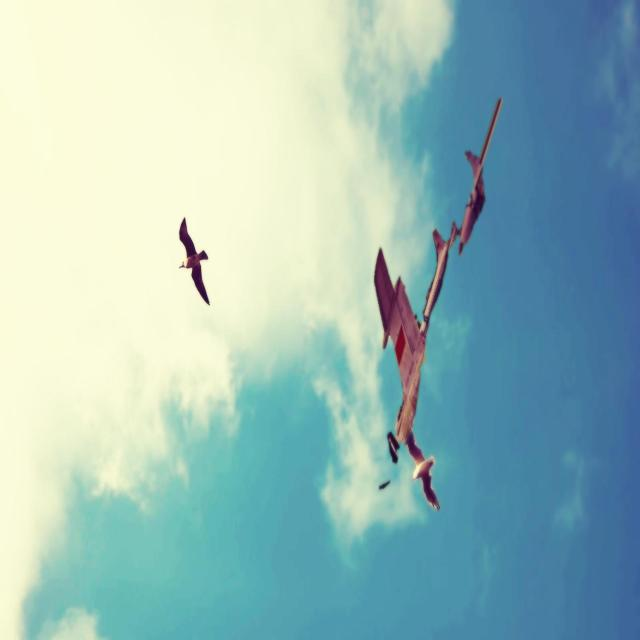airplane: (370, 228, 448, 445), (458, 99, 501, 258)
